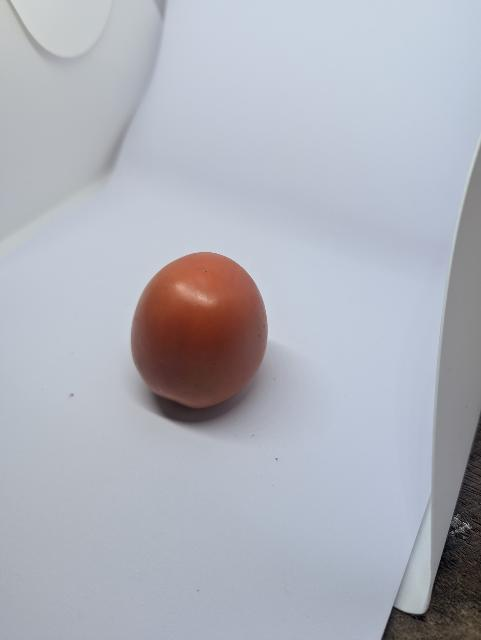red: (85, 226, 321, 442)
